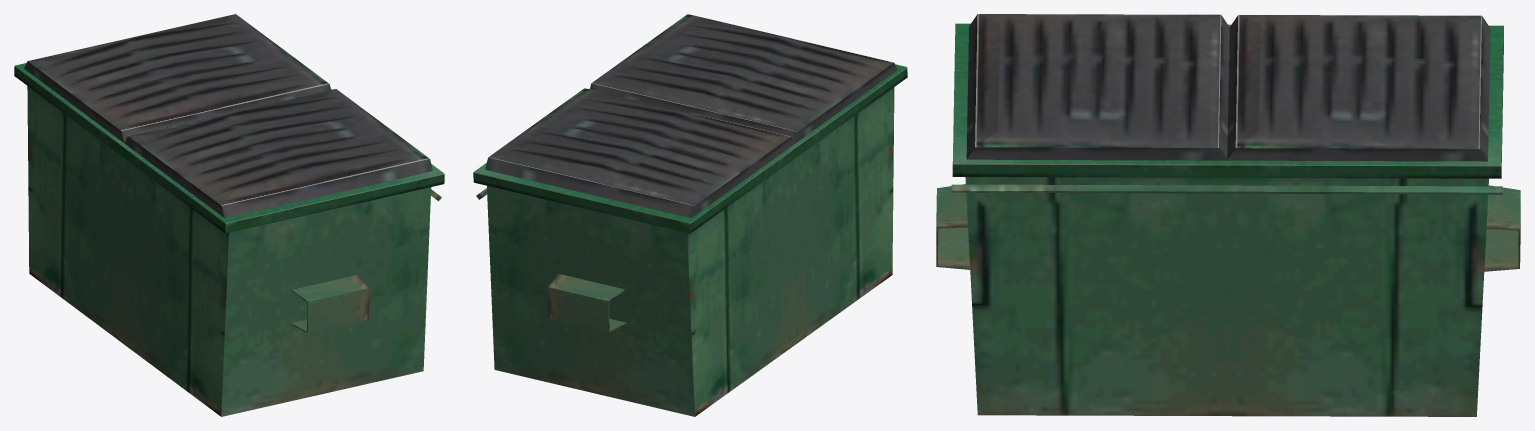
File: Urban_DumpsterLidClosed_Model.fbx
3 renders of one model, left to right at view 1: azimuth 30°, elevation 25°; view 2: azimuth 150°, elevation 25°; view 3: azimuth 270°, elevation 25°, orthographic. The views are drawn at different scales.
Visible parts, largest first — view 1: Urban_DumpsterLidClosed_Mesh; view 2: Urban_DumpsterLidClosed_Mesh; view 3: Urban_DumpsterLidClosed_Mesh.
Boxes of the visible parts, x1,y1,x2,y2 form: Urban_DumpsterLidClosed_Mesh: [14, 14, 444, 416]; Urban_DumpsterLidClosed_Mesh: [473, 14, 907, 416]; Urban_DumpsterLidClosed_Mesh: [936, 14, 1520, 416].
Bounding box in the file's own units: 2.06 × 1.96 × 3.68.
